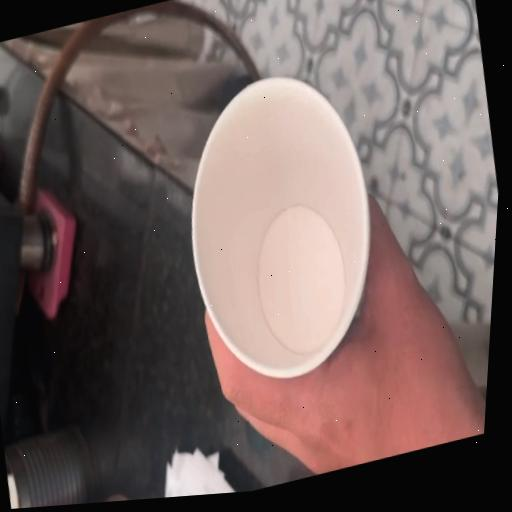Ly_giay: (191, 77, 370, 378)
